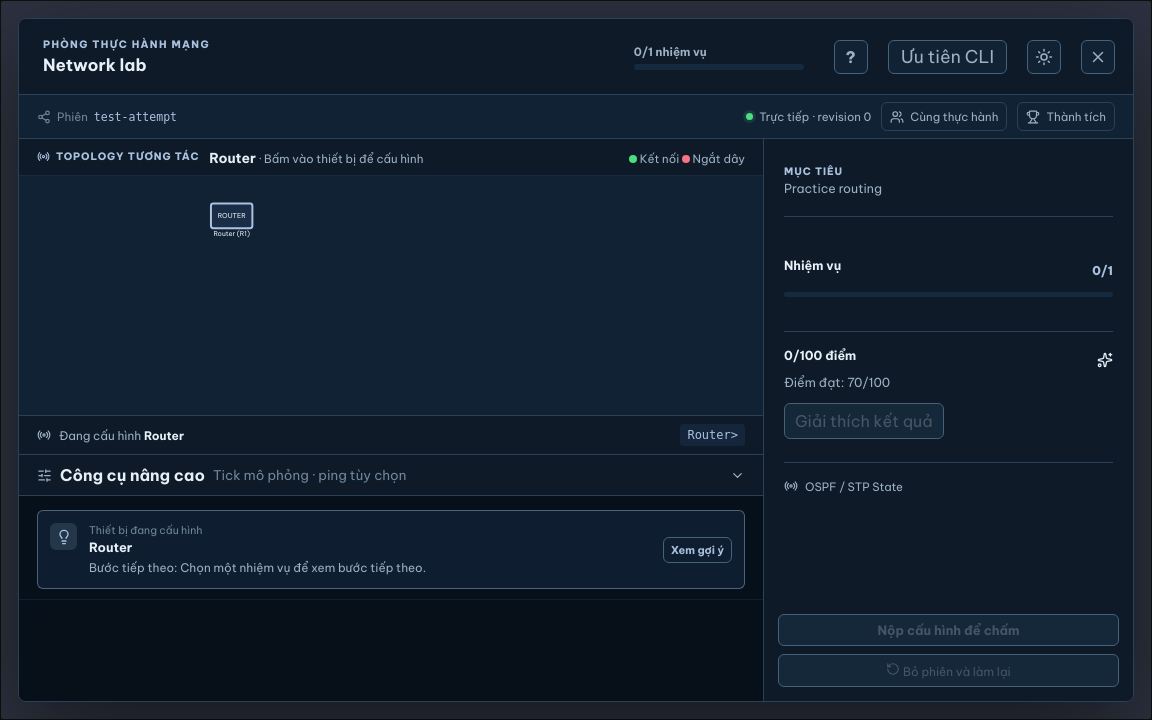
Test: feedback fallback remains visibly different from a Gemini response
This screenshot has width=1152, height=720.
Click the button "Giải thích kết quả" at (864, 421), box [784,403,944,439]
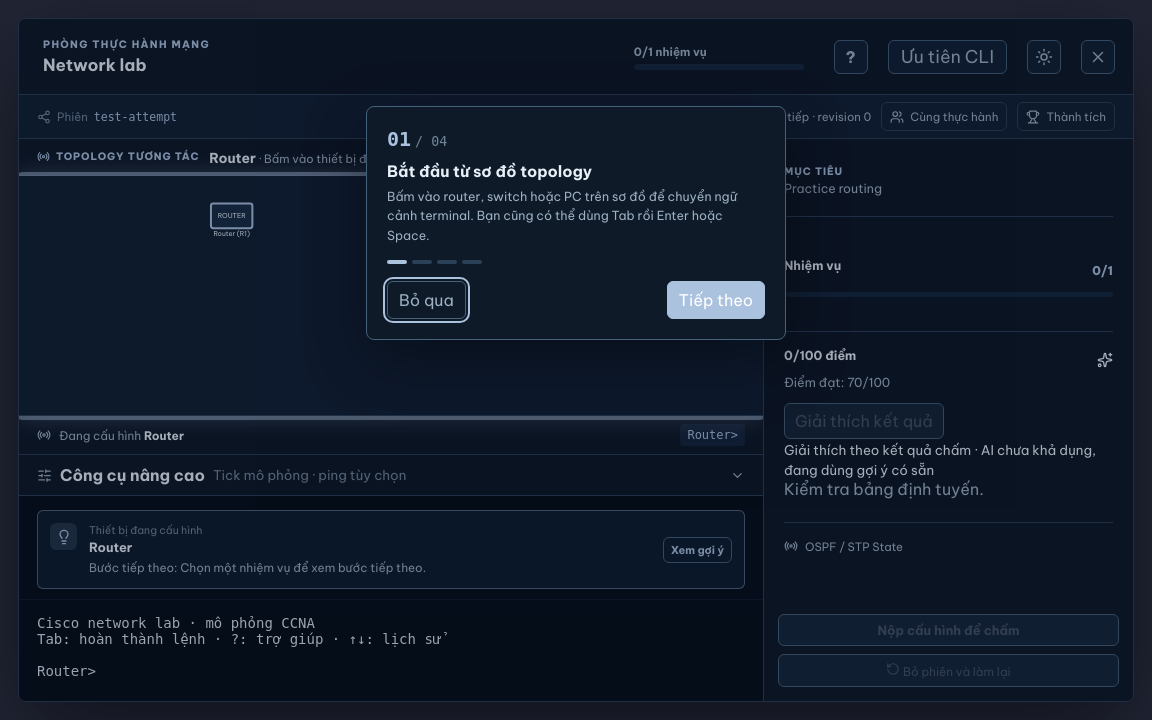
Expected: the text "AI chưa khả dụng, đang dùng gợi ý có sẵn" is shown, [784,442,1096,479]
